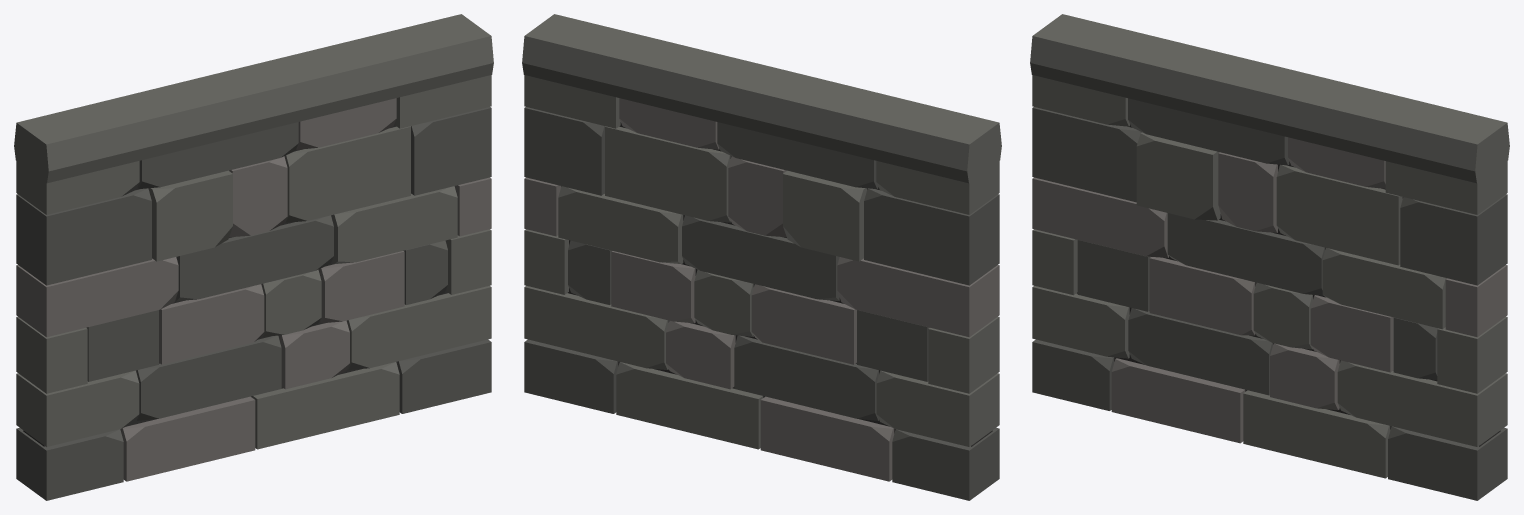
File: Wall04.fbx
3 views of the same model, side by side, from view 1: azimuth 30°, elevation 25°; view 2: azimuth 150°, elevation 25°; view 3: azimuth 330°, elevation 25° (orthographic).
Visible parts, largest first — view 1: Wall04; view 2: Wall04; view 3: Wall04.
Boxes of the visible parts, x1,y1,x2,y2 form: Wall04: (14, 14, 493, 500); Wall04: (522, 14, 1001, 500); Wall04: (1030, 14, 1509, 500).
Size of the model in its own units: 200 by 153 by 28.14.
